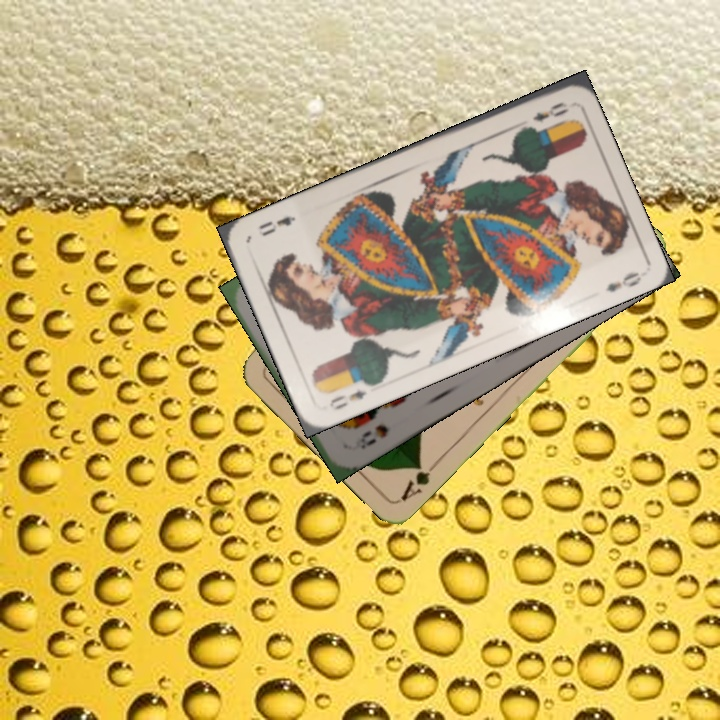EO: (325, 375, 376, 413), (528, 97, 572, 124)
GA: (396, 456, 442, 504)
S8: (347, 420, 391, 454)
